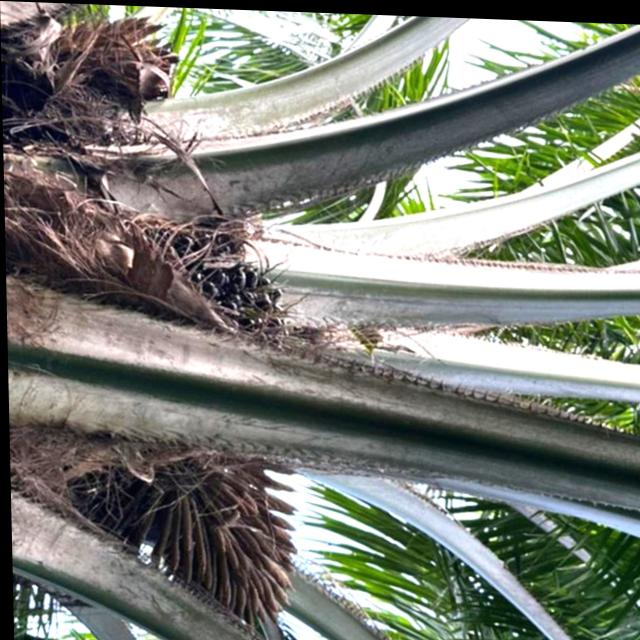almost: (101, 201, 298, 346)
